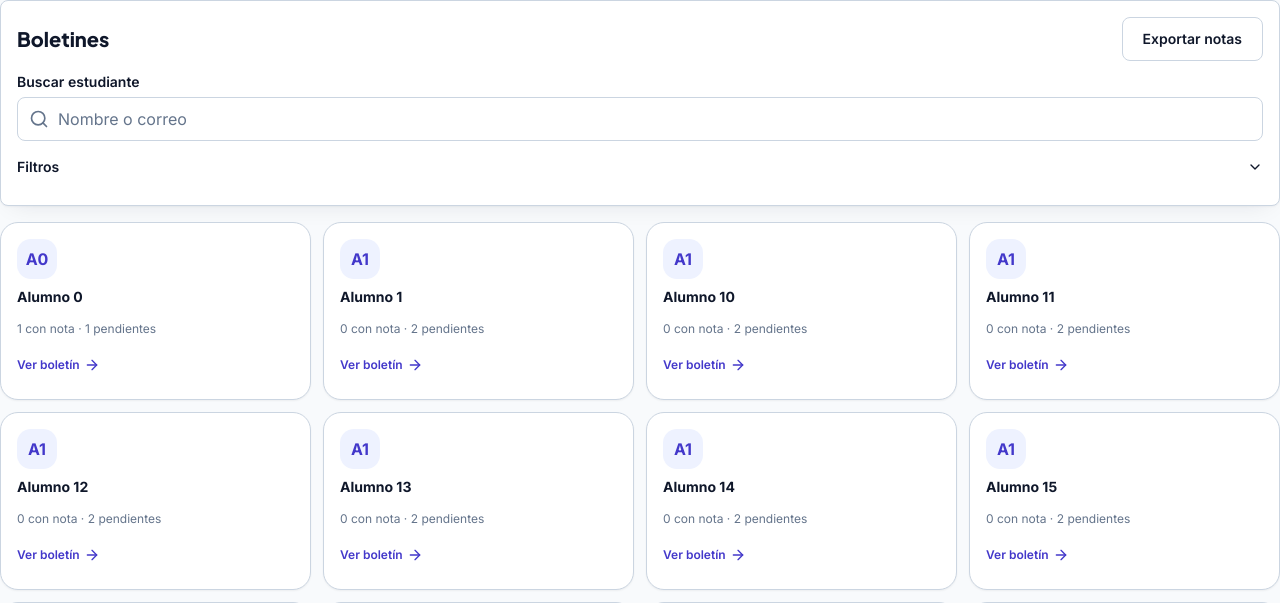
Test case: libro docente contextual › preserves cents, scales and published states without displaying absent grades as zero
Step 1. Click the button with aria-label "Ver boletín de Alumno 0" → (37, 259), box [0, 222, 311, 400]
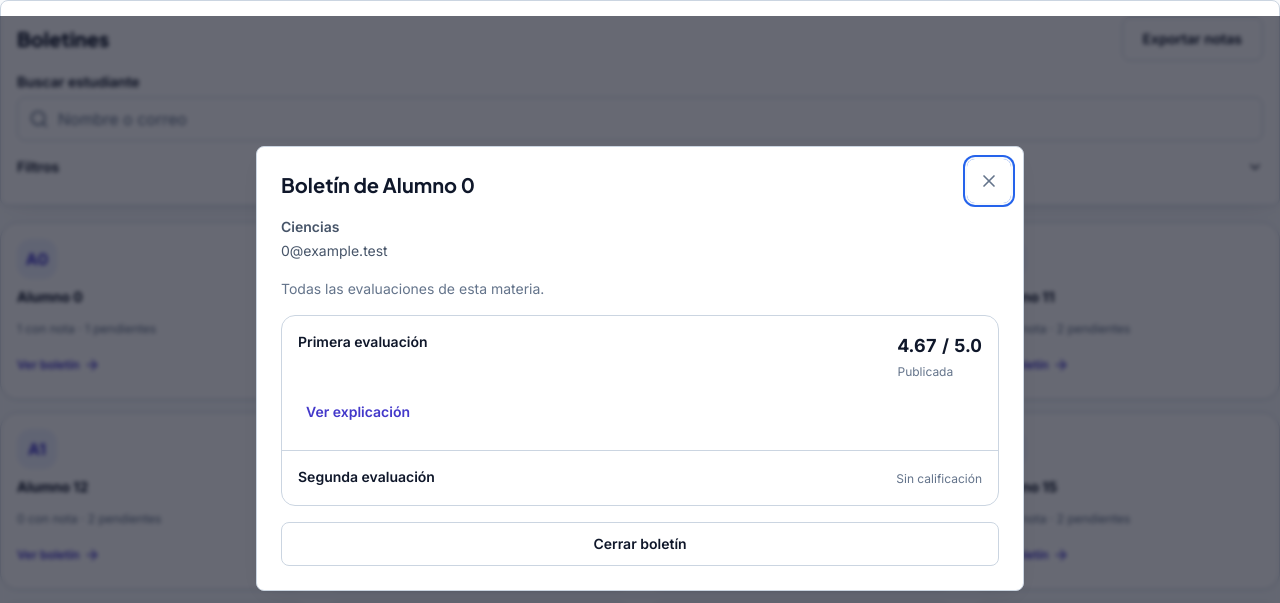
Expected: the text "4.67 / 5.0" is shown, [898, 332, 982, 360]
Expected: the text "Publicada" is shown, [898, 364, 953, 378]
Expected: the text "Sin calificación" is shown, [896, 468, 982, 488]
